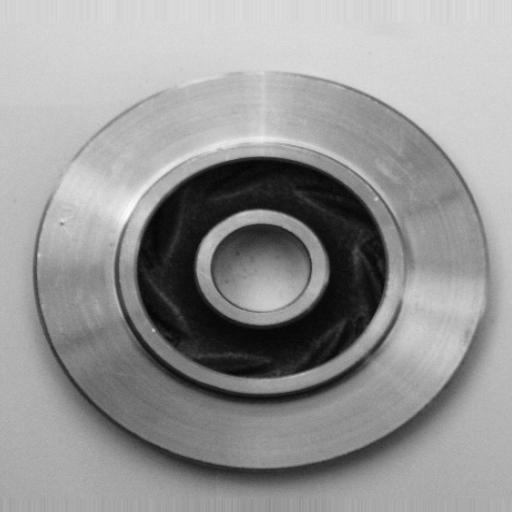unpolished_casting: (32, 66, 491, 477)
